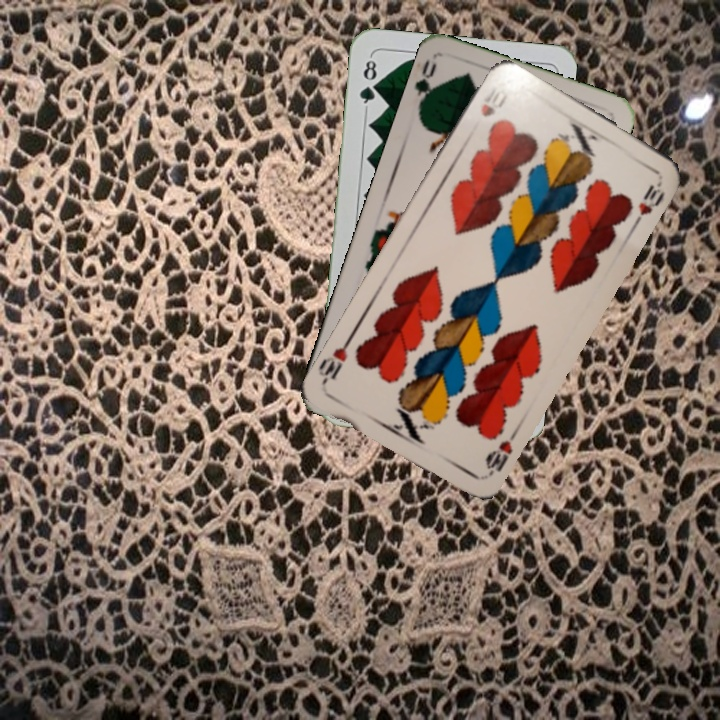G8: (355, 53, 381, 112)
GO: (412, 56, 443, 115)
H10: (481, 427, 520, 479), (476, 84, 511, 120)
